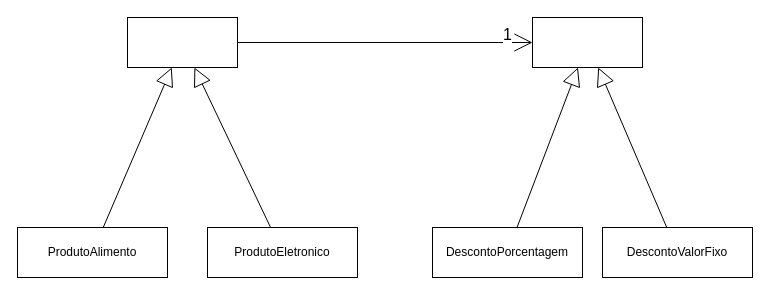
Some shapes in this 770 by 295 pixel diagram are drawn without their labels. The shapes that lost their labels are listed below. From the top down, each one's centre as x and y in pixels, then its label:
the point at 182,42: «abstract » Produto
the point at 587,42: «interface» Desconto
